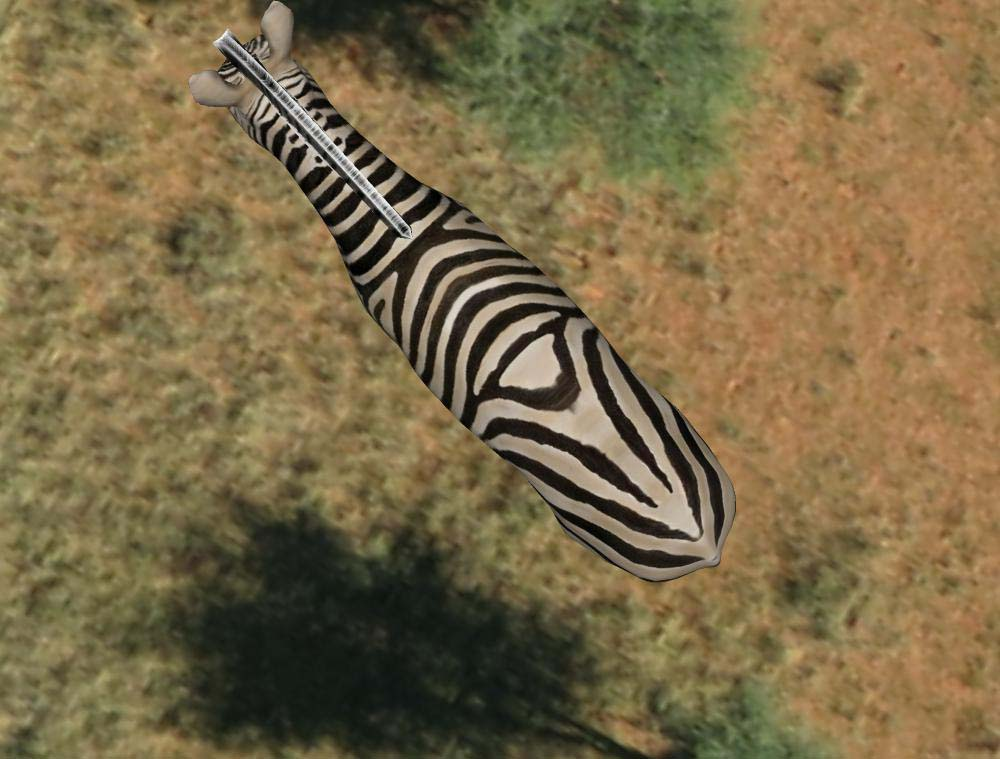zebra: (180, 2, 744, 597)
